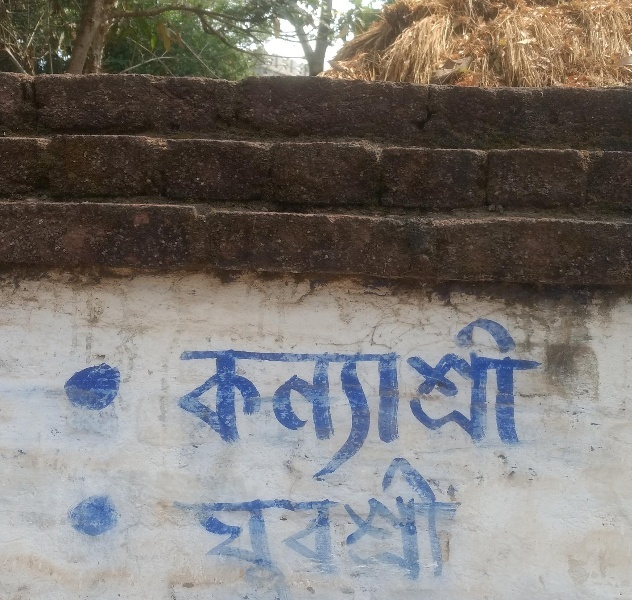text: (177, 307, 192, 495), (193, 307, 208, 495), (209, 307, 224, 495), (225, 307, 240, 495), (241, 307, 256, 495), (257, 307, 272, 495), (273, 307, 288, 495), (289, 307, 304, 495), (305, 307, 320, 495), (321, 307, 336, 495), (337, 307, 352, 495), (353, 307, 368, 495), (369, 307, 384, 495), (385, 307, 400, 495), (401, 307, 416, 495), (417, 307, 432, 495), (433, 307, 448, 495), (449, 307, 464, 495), (465, 307, 480, 495), (481, 307, 496, 495), (497, 307, 512, 495), (513, 307, 528, 495), (529, 307, 544, 495), (545, 307, 560, 495), (113, 365, 129, 540), (49, 365, 64, 540), (65, 365, 80, 540), (81, 365, 96, 540), (97, 365, 112, 540), (193, 447, 208, 596), (209, 447, 224, 596), (225, 447, 240, 596), (241, 447, 256, 596), (257, 447, 272, 596), (273, 447, 288, 596), (289, 447, 304, 596), (305, 447, 320, 596), (321, 447, 336, 596), (337, 447, 352, 596), (353, 447, 368, 596), (369, 447, 384, 596), (385, 447, 400, 596), (401, 447, 416, 596), (417, 447, 432, 596), (433, 447, 448, 596), (449, 447, 464, 596), (561, 307, 568, 495), (187, 447, 192, 596), (465, 447, 470, 596), (174, 307, 176, 495)
